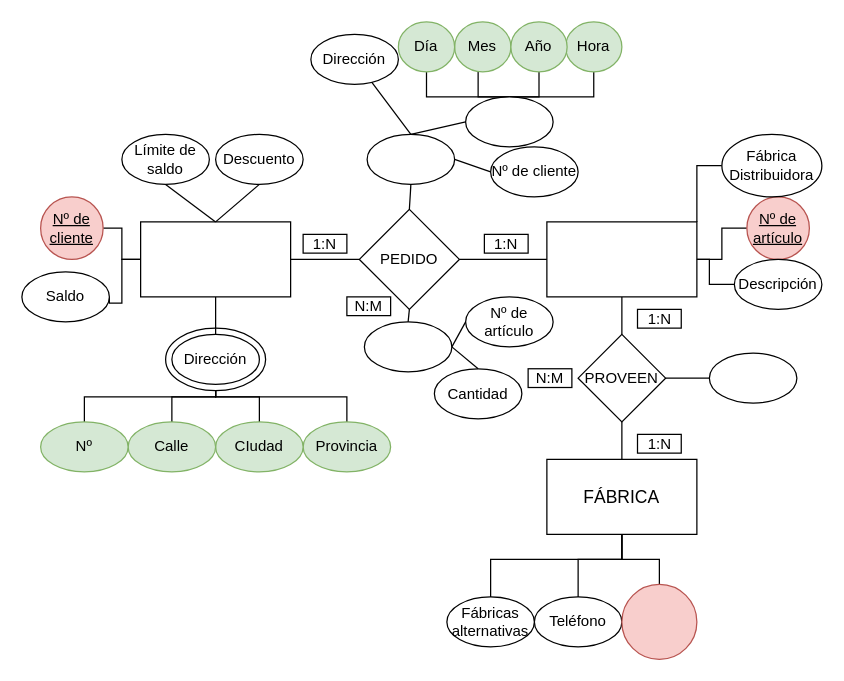
Image size: 844x681. Some labels were removed from this diagram. Each missing label, with the centre of its shape:
ARTÍCULO: the point at 621,259
Artículos totales: the point at 752,377
Cabecera: the point at 410,158
CLIENTE: the point at 215,259
Cuerpo: the point at 407,346
Fecha: the point at 508,121
Nº de fábrica: the point at 659,621
